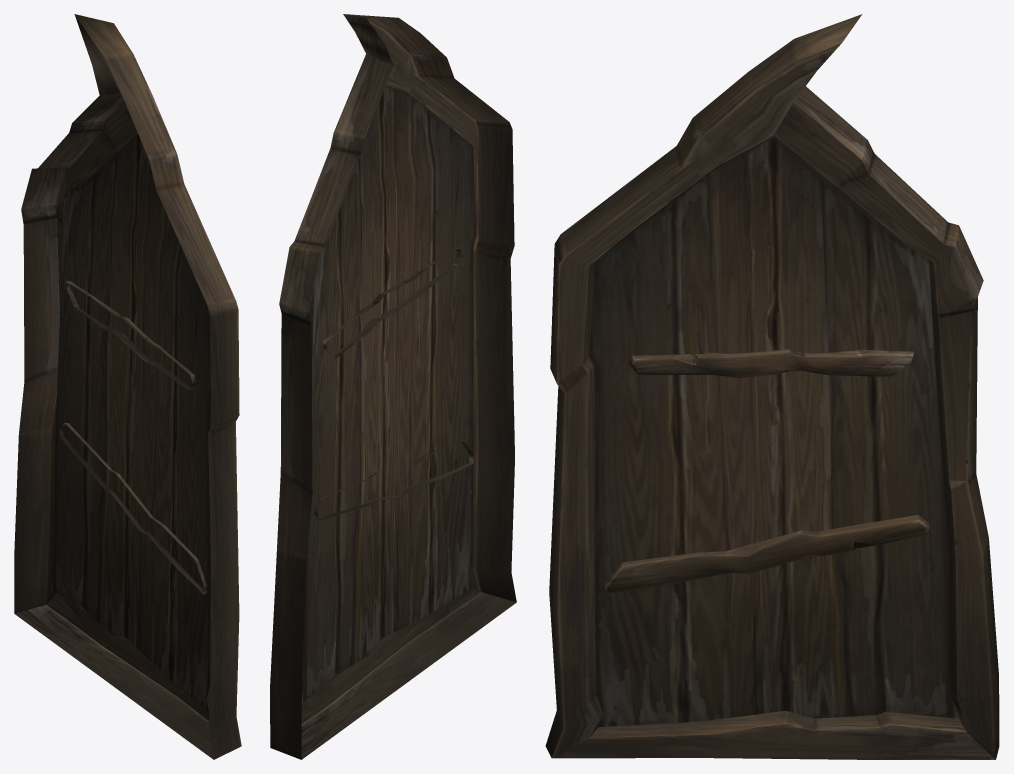
Rendered from lower_city_door_01.fbx.
3 renders of one model, left to right at view 1: azimuth 30°, elevation 25°; view 2: azimuth 150°, elevation 25°; view 3: azimuth 270°, elevation 25°, orthographic. The views are drawn at different scales.
Parts seen in each view (by area): view 1: lower_city_door_01; view 2: lower_city_door_01; view 3: lower_city_door_01.
Boxes of the visible parts, x1,y1,x2,y2 form: lower_city_door_01: [14, 14, 241, 759]; lower_city_door_01: [270, 14, 516, 759]; lower_city_door_01: [545, 14, 999, 759].
Bounding box in the file's own units: 0.1431 × 2.47 × 1.39.
